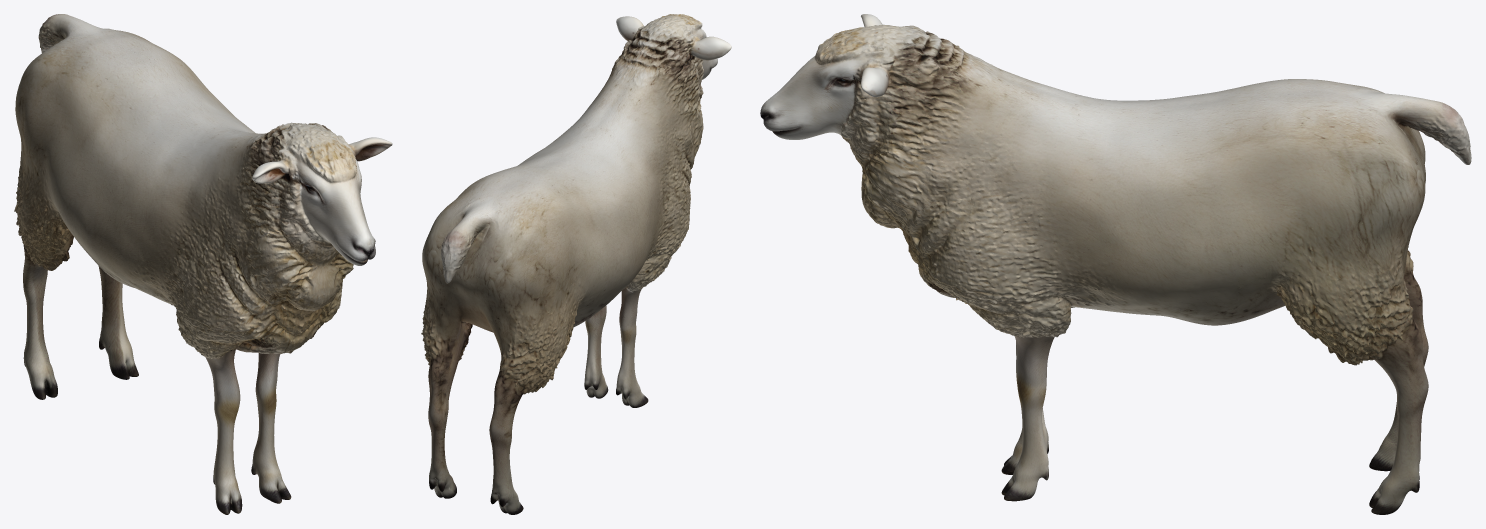
The model's file is schaf_original.glb.
3 renders of one model, left to right at view 1: azimuth 30°, elevation 25°; view 2: azimuth 150°, elevation 25°; view 3: azimuth 270°, elevation 25°, orthographic. The views are drawn at different scales.
Visible parts, largest first — view 1: mesh_node; view 2: mesh_node; view 3: mesh_node.
Part boxes in pixels (x1,y1,x2,y2): mesh_node: (14,14,392,514); mesh_node: (421,14,731,514); mesh_node: (760,14,1471,514).
Size of the model in its own units: 0.6264 by 1.36 by 1.9.
Materials: 1 (1 with a texture image).
